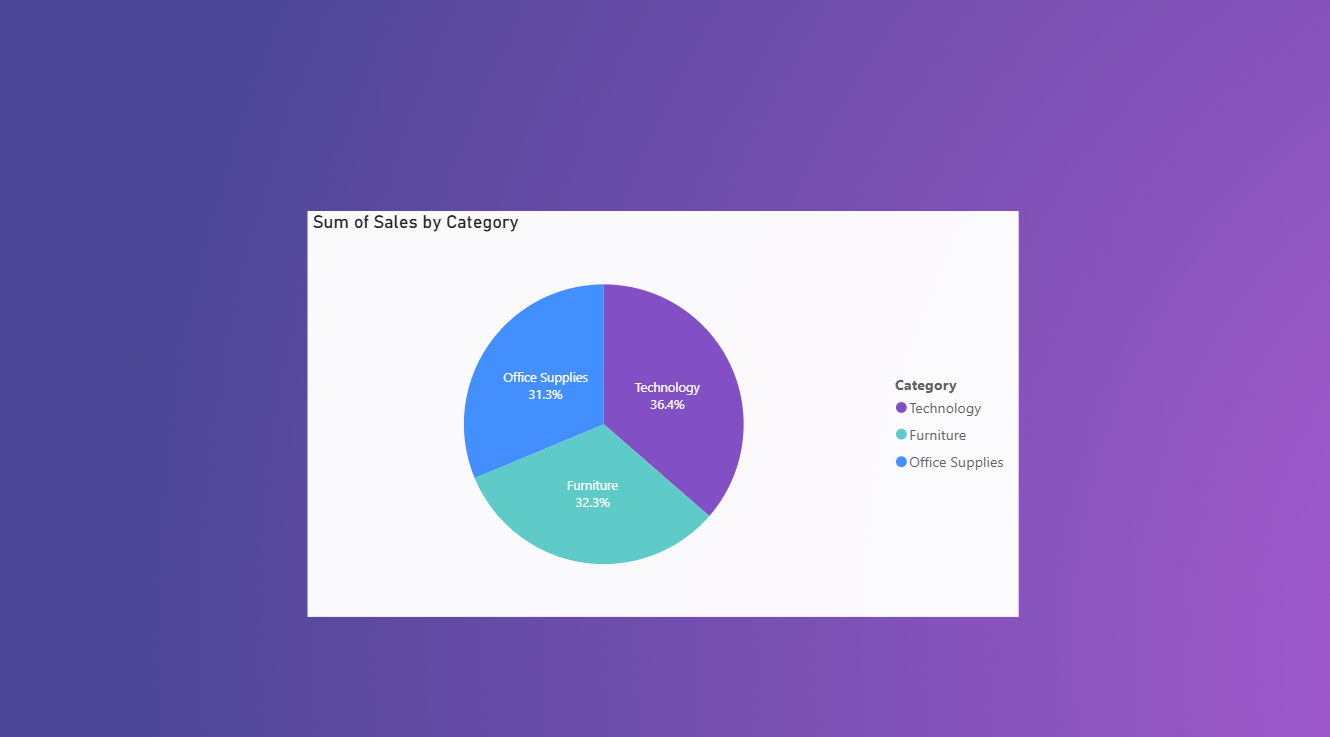

The dashboard page shown, as its layout file describes it:
{"tool":"powerbi","page":{"name":"Page 4","canvas":[1280,720],"ordinal":3},"visuals":[{"type":"pieChart","fields":{"Y":["Sum(Data.Sales)"],"Category":["Data.Category"]},"box":[10,0,1007.8,654.3],"z":0}]}

Visuals, with their boxes in screenshot pixels (x1, y1, x2, y2), scaled from the page's 1280x720 canvas onto the 1330x737 screenshot:
pieChart - Sum(Data.Sales) x Data.Category: Rect(10, 0, 1058, 670)
